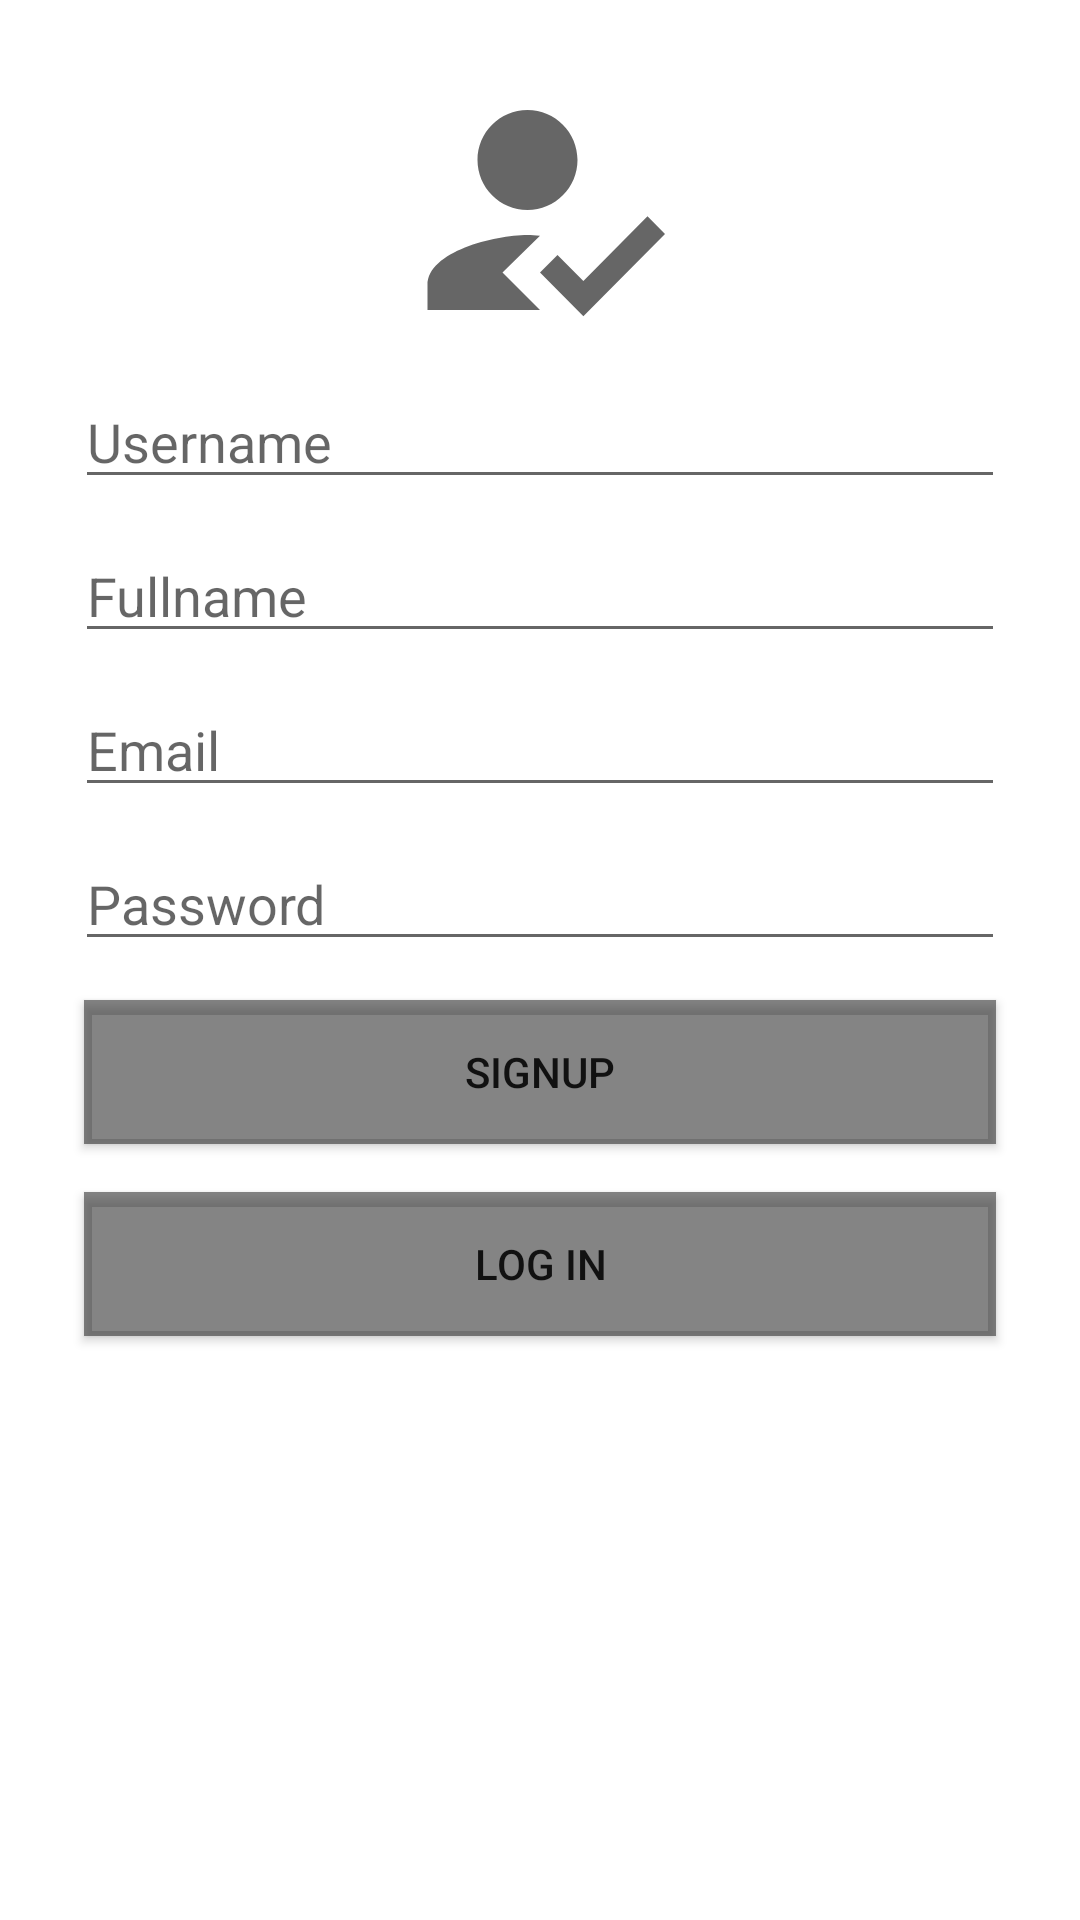

Locate icon controls on the screen. Image size 1080 × 1920, boxes as detection(x1, y1, x2, y2).
how to reg: detection(427, 110, 665, 316)
